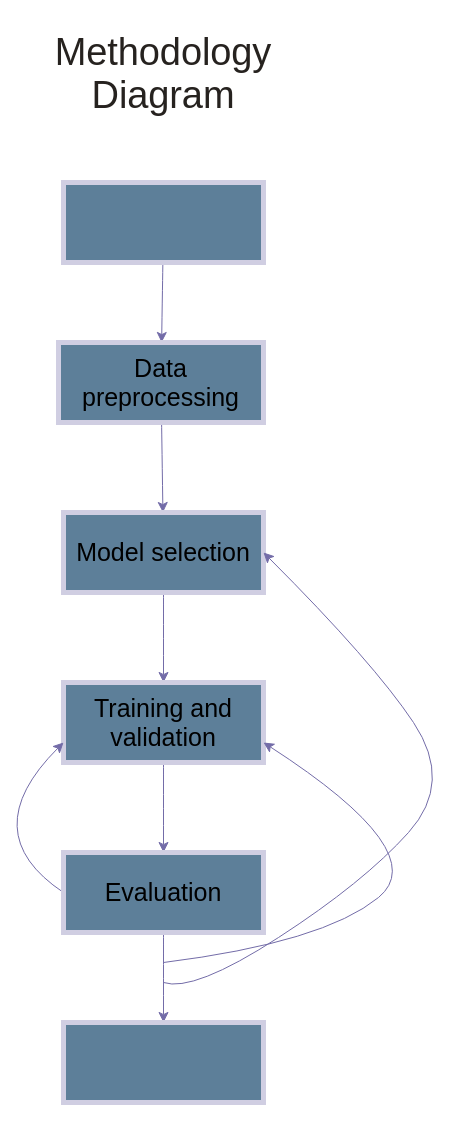
The diagram is 451 pixels wide and 1122 high, and some of its shapes have lost their labels. Here are the shapes that lost their labels. From the top down, the centre of each, then its label:
At point 163,222: "Data collection".
At point 163,1062: "Final model".
